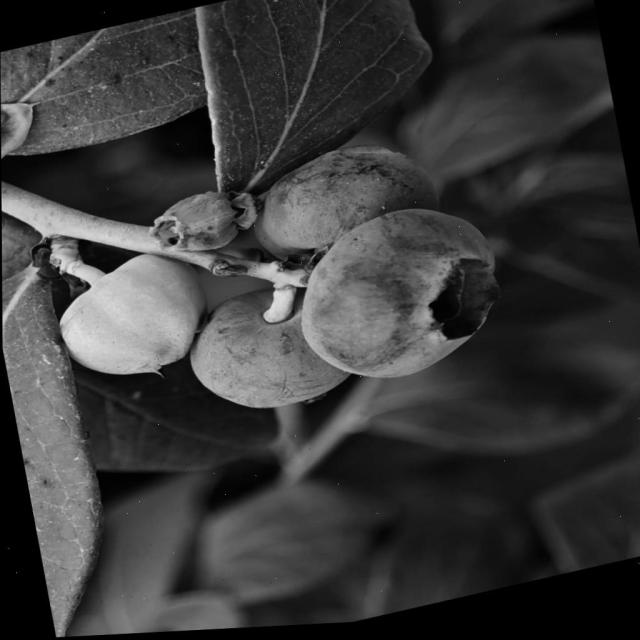RipeBlueBerry: (292, 195, 508, 400)
UnripeBlueBerry: (43, 248, 214, 393)
